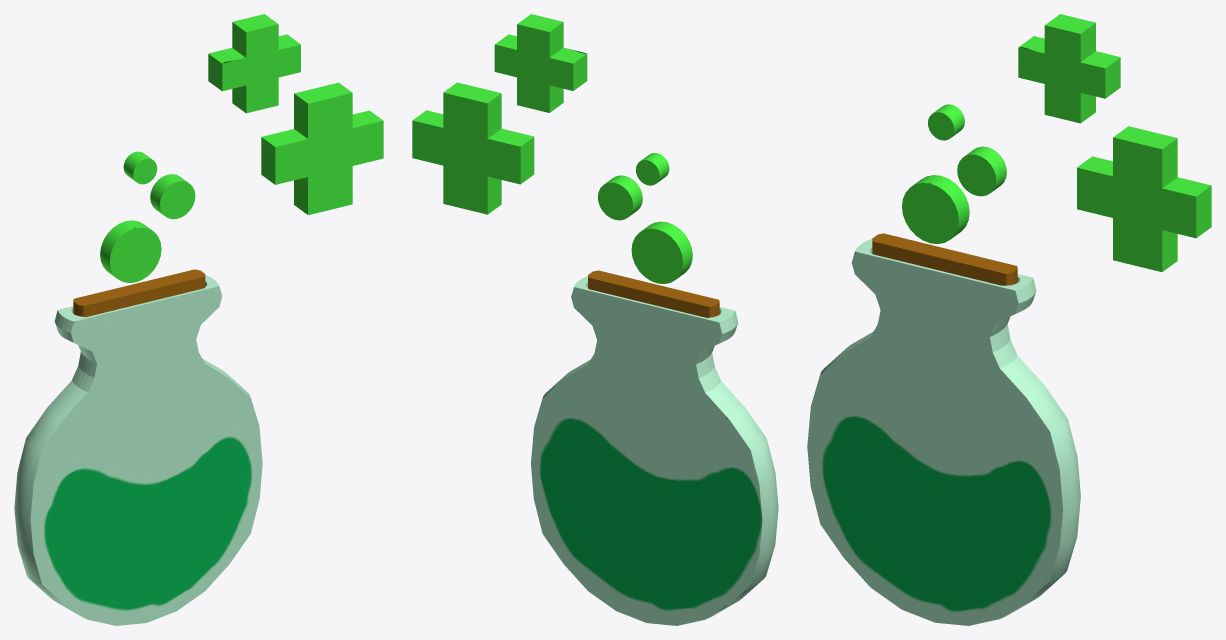
Rendered from pollution_up.fbx.
The picture shows the model from 3 angles, left to right: view 1: azimuth 30°, elevation 25°; view 2: azimuth 150°, elevation 25°; view 3: azimuth 330°, elevation 25°; orthographic projection. The views are drawn at different scales.
Parts seen in each view (by area): view 1: Cone001; view 2: Cone001; view 3: Cone001.
Boxes of the visible parts, box(x1,y1,x2,y2) form: Cone001: box(14, 14, 383, 625); Cone001: box(412, 14, 778, 625); Cone001: box(807, 14, 1211, 625).
Bounding box in the file's own units: 979 × 1482 × 76.78.
Materials: 1 (1 with a texture image).
